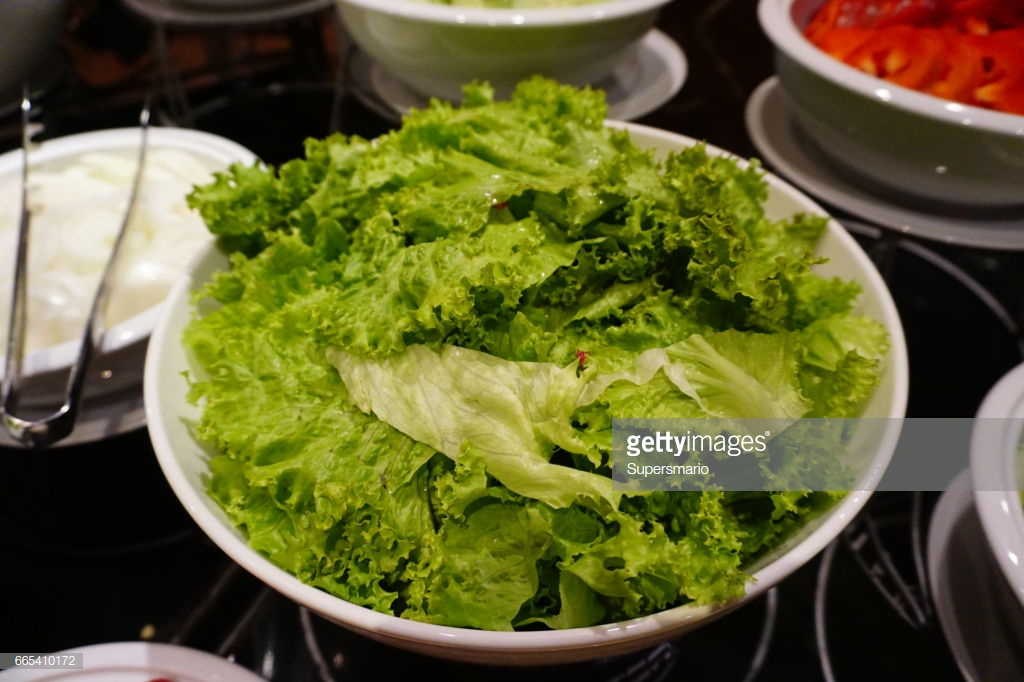chopped lettuce: (227, 156, 591, 577)
